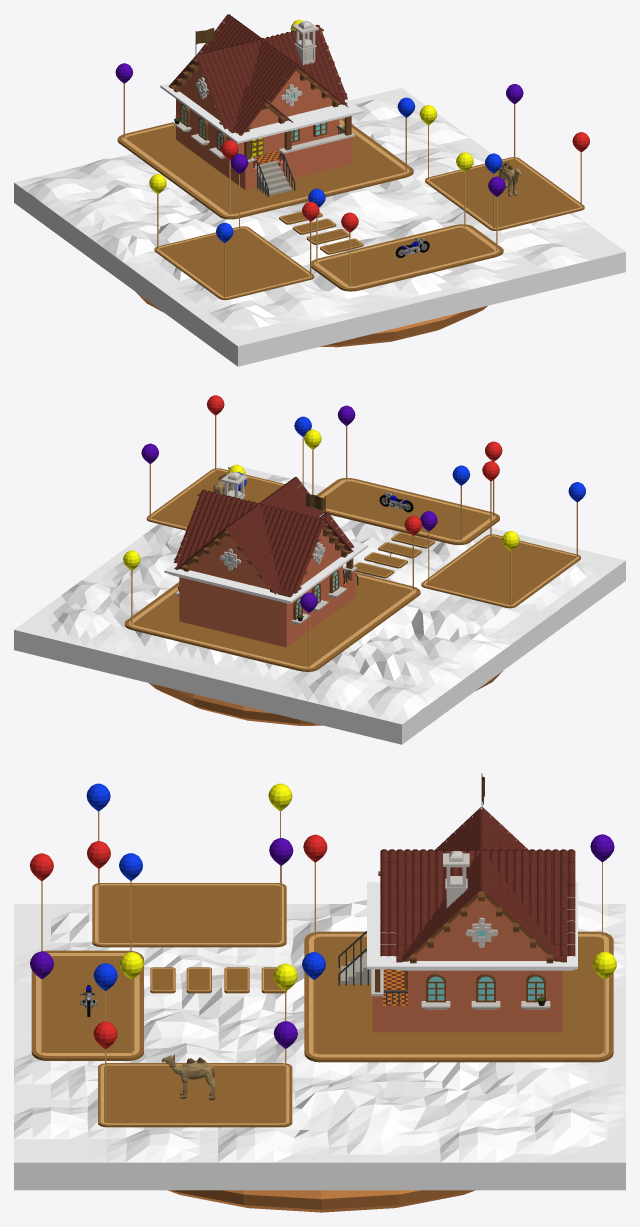
3 renders of one model, top to bottom at view 1: azimuth 30°, elevation 25°; view 2: azimuth 150°, elevation 25°; view 3: azimuth 270°, elevation 25°, orthographic. The views are drawn at different scales.
Parts seen in each view (by area): view 1: Cube.013, Cube.1141, UNDERGROUND_PIZZA; view 2: Cube.013, Cube.1141, UNDERGROUND_PIZZA; view 3: Cube.013, Cube.1141, UNDERGROUND_PIZZA, ANIMAL_CAMELLO.
Part boxes in pixels (x1,y1,x2,y2): Cube.013: (14,19,625,366); Cube.1141: (160,14,363,196); UNDERGROUND_PIZZA: (136,292,487,347); Cube.013: (14,395,625,744); Cube.1141: (164,472,368,647); UNDERGROUND_PIZZA: (149,671,502,725); Cube.013: (14,783,625,1190); Cube.1141: (338,773,577,1032); UNDERGROUND_PIZZA: (168,1190,475,1212); ANIMAL_CAMELLO: (161,1054,215,1100).
Size of the model in its own units: 4000 by 2054 by 4000.
39 materials, 1 textured.
